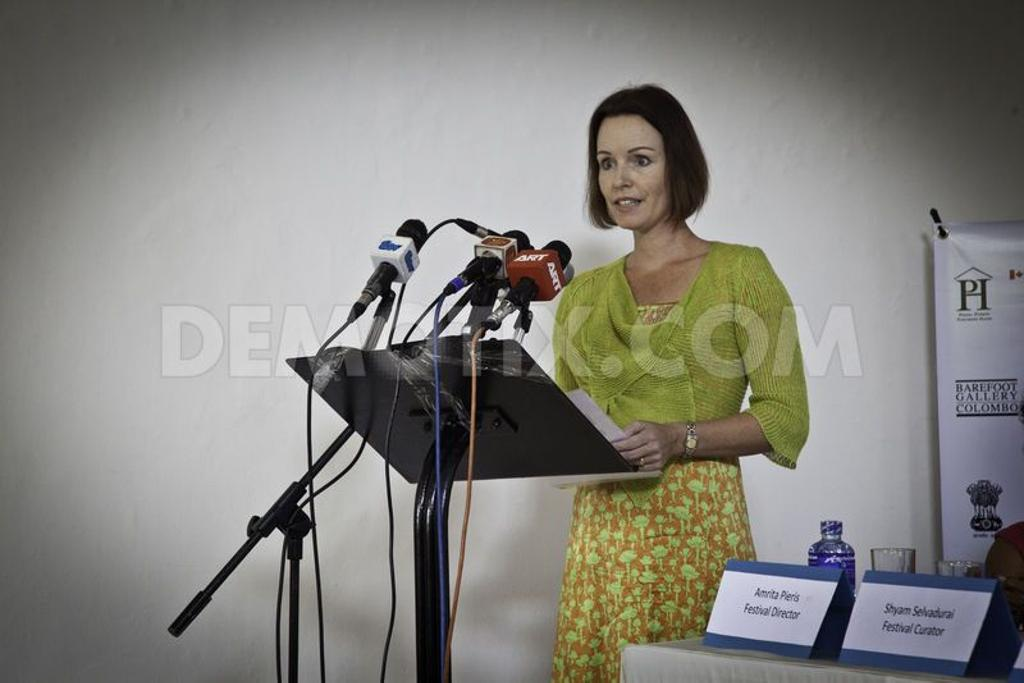face: (596, 116, 674, 228)
